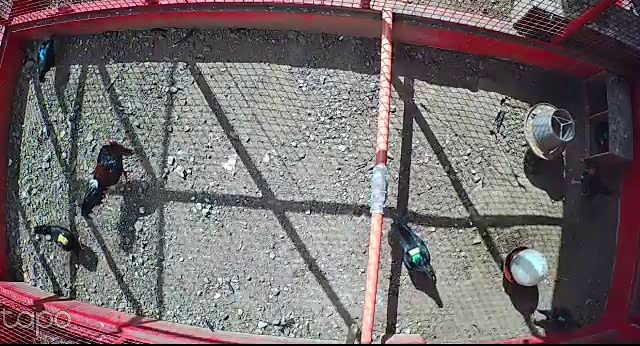Chicken: (393, 219, 441, 285), (32, 222, 87, 258), (535, 301, 584, 332), (36, 32, 62, 83)
Drinker: (502, 246, 549, 287)
Feeder: (523, 102, 576, 162)
Rooster: (81, 136, 136, 215)
Saddle_Color_Blue: (39, 49, 47, 59)
Saddle_Color_Yellow: (56, 232, 68, 244)
Saddle_Color_YellowGreen: (408, 246, 421, 263)
